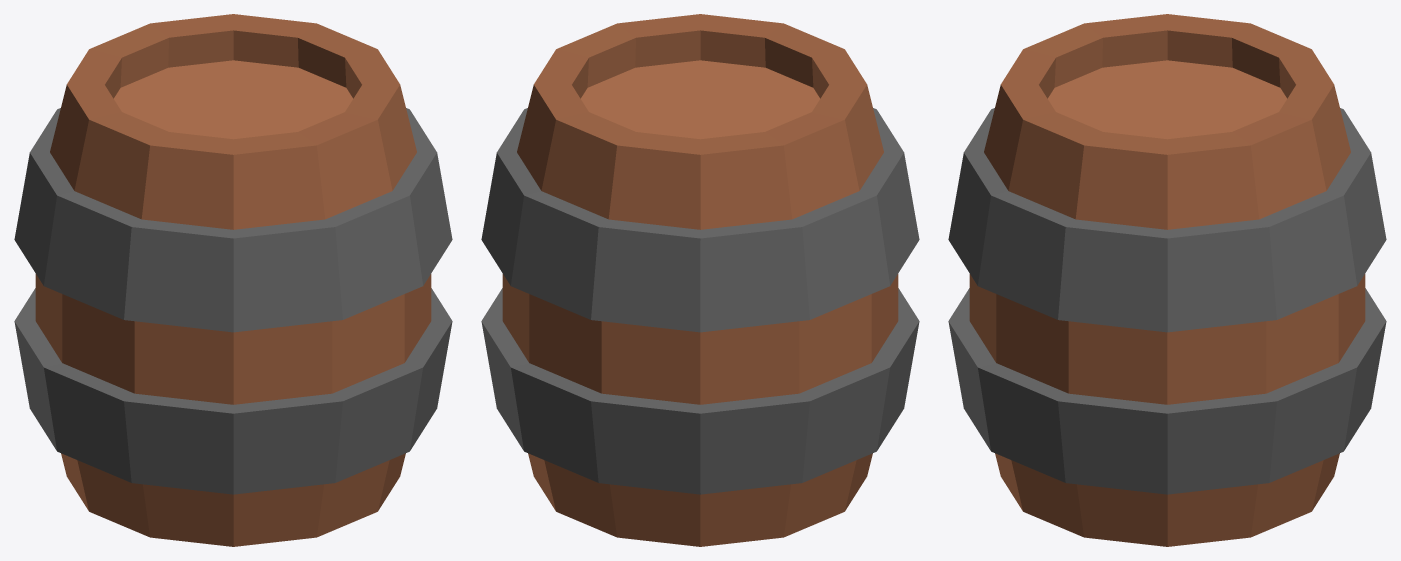
File: barrel_3.glb
The picture shows the model from 3 angles, left to right: view 1: azimuth 30°, elevation 25°; view 2: azimuth 150°, elevation 25°; view 3: azimuth 270°, elevation 25°; orthographic projection.
Visible parts, largest first — view 1: barrel_3; view 2: barrel_3; view 3: barrel_3.
Part boxes in pixels (bbox=[...]): barrel_3: bbox=[14, 14, 452, 546]; barrel_3: bbox=[481, 14, 919, 546]; barrel_3: bbox=[948, 14, 1386, 546].
Size of the model in its own units: 0.4317 by 0.4262 by 0.4317.
Materials: 1 (1 with a texture image).
